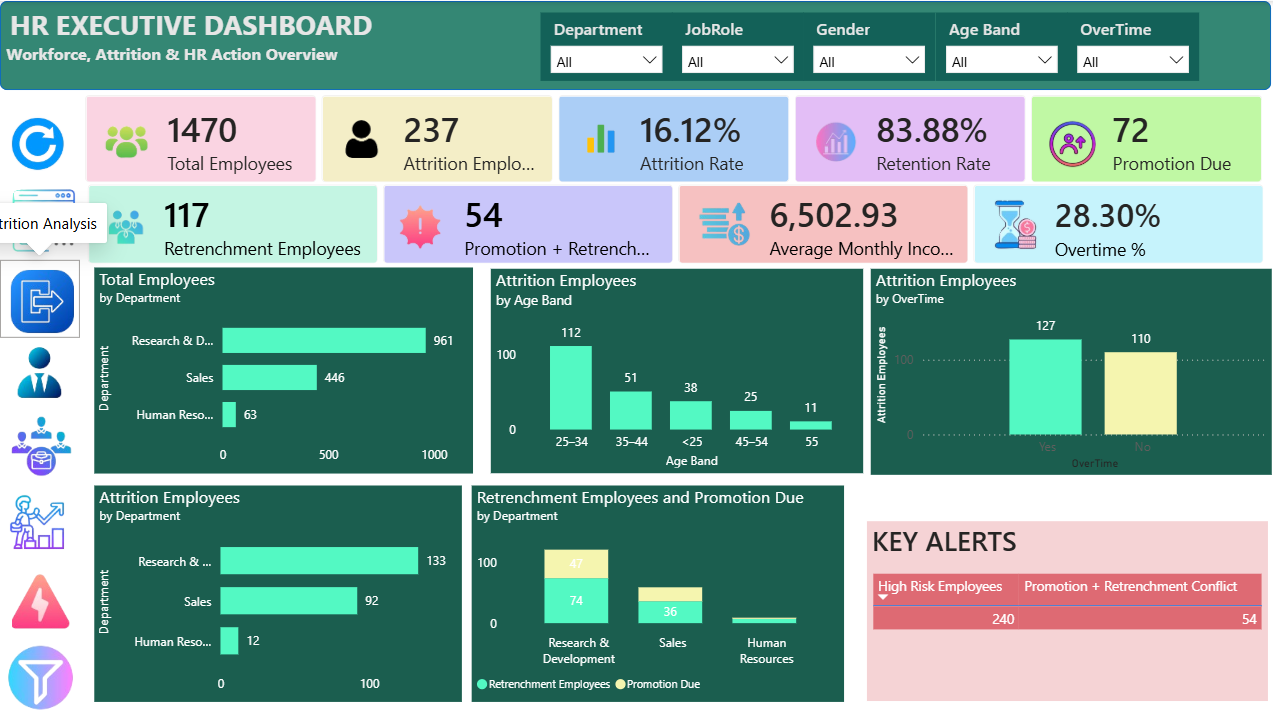

What the dashboard file says about the page in this screenshot:
{"tool":"powerbi","page":{"name":"HR Executive Dashboard","canvas":[1280,720],"ordinal":1},"visuals":[{"type":"shape","box":[9.1,0,1253,87.9],"z":0},{"type":"textbox","box":[10.4,0,395.9,115.6],"z":1000},{"type":"cardVisual","fields":{"Data":["#MEASURES.Retrenchment Employees","#MEASURES.Promotion + Retrenchment Conflict","#MEASURES.Average Monthly Income","#MEASURES.Overtime %"]},"box":[91,176,1171.2,88],"z":2000},{"type":"cardVisual","fields":{"Data":["#MEASURES.Total Employees","#MEASURES.Attrition Employees","#MEASURES.Attrition Rate","#MEASURES.Retention Rate","#MEASURES.Promotion Due"]},"box":[88,88,1174.1,97],"z":3000},{"type":"slicer","fields":{"Values":["HR.Department"]},"box":[541.6,11.9,130,67.1],"z":4000},{"type":"slicer","fields":{"Values":["HR.JobRole"]},"box":[671.4,11.9,130,67.1],"z":5000},{"type":"slicer","fields":{"Values":["HR.Gender"]},"box":[801.2,11.9,130,67.1],"z":6000},{"type":"slicer","fields":{"Values":["HR.Age Band"]},"box":[931,11.9,130,67.1],"z":7000},{"type":"slicer","fields":{"Values":["HR.OverTime"]},"box":[1060.8,11.9,130,67.1],"z":8000},{"type":"clusteredBarChart","title":"Total Employees ","fields":{"Category":["HR.Department"],"Y":["#MEASURES.Total Employees"]},"box":[101.5,262.6,373,202.9],"z":9000},{"type":"clusteredBarChart","title":"Attrition Employees","fields":{"Category":["HR.Department"],"Y":["#MEASURES.Attrition Employees"]},"box":[101.5,477.4,362.5,213.3],"z":10000},{"type":"clusteredColumnChart","title":"Attrition Employees ","fields":{"Category":["HR.OverTime"],"Y":["#MEASURES.Attrition Employees"]},"box":[866.8,264.1,395.4,202.9],"z":11000},{"type":"clusteredColumnChart","title":"Attrition Employees","fields":{"Category":["HR.Age Band"],"Y":["#MEASURES.Attrition Employees"]},"box":[492.3,264.1,367,201.4],"z":12000},{"type":"columnChart","title":"Retrenchment Employees and Promotion Due ","fields":{"Category":["HR.Department"],"Y":["#MEASURES.Retrenchment Employees","#MEASURES.Promotion Due"]},"box":[474.4,477.4,367,213.3],"z":13000},{"type":"tableEx","title":"KEY ALERTS","fields":{"Values":["#MEASURES.High Risk Employees","#MEASURES.Promotion + Retrenchment Conflict"]},"box":[863.8,513.2,395.4,177.5],"z":14000},{"type":"image","box":[10.4,101.5,77.6,76.1],"z":15000},{"type":"image","box":[11.9,177.5,80.6,77.6],"z":16000},{"type":"image","box":[9,255.1,79.1,76.1],"z":17000},{"type":"image","box":[11.9,331.2,76.1,68.6],"z":18000},{"type":"image","box":[10.4,401.3,77.6,76.1],"z":19000},{"type":"image","box":[11.9,477.4,76.1,76.1],"z":20000},{"type":"image","box":[11.9,553.5,76.1,71.6],"z":21000},{"type":"image","box":[10.4,625.1,77.6,77.6],"z":22000}]}

Visuals, with their boxes on the page's 1280x720 design canvas (x1, y1, x2, y2). These are canvas units, not pixel positions in the 1273x710 screenshot, which may show the page scaled, cropped or inside an application window:
shape: 9 0 1262 88
textbox: 10 0 406 116
cardVisual - #MEASURES.Retrenchment Employees x #MEASURES.Promotion + Retrenchment Conflict: 91 176 1262 264
cardVisual - #MEASURES.Total Employees x #MEASURES.Attrition Employees: 88 88 1262 185
slicer - HR.Department: 542 12 672 79
slicer - HR.JobRole: 671 12 801 79
slicer - HR.Gender: 801 12 931 79
slicer - HR.Age Band: 931 12 1061 79
slicer - HR.OverTime: 1061 12 1191 79
"Total Employees " clusteredBarChart: 102 263 474 466
"Attrition Employees" clusteredBarChart: 102 477 464 691
"Attrition Employees " clusteredColumnChart: 867 264 1262 467
"Attrition Employees" clusteredColumnChart: 492 264 859 466
"Retrenchment Employees and Promotion Due " columnChart: 474 477 841 691
"KEY ALERTS" tableEx: 864 513 1259 691
image: 10 102 88 178
image: 12 178 92 255
image: 9 255 88 331
image: 12 331 88 400
image: 10 401 88 477
image: 12 477 88 554
image: 12 554 88 625
image: 10 625 88 703
